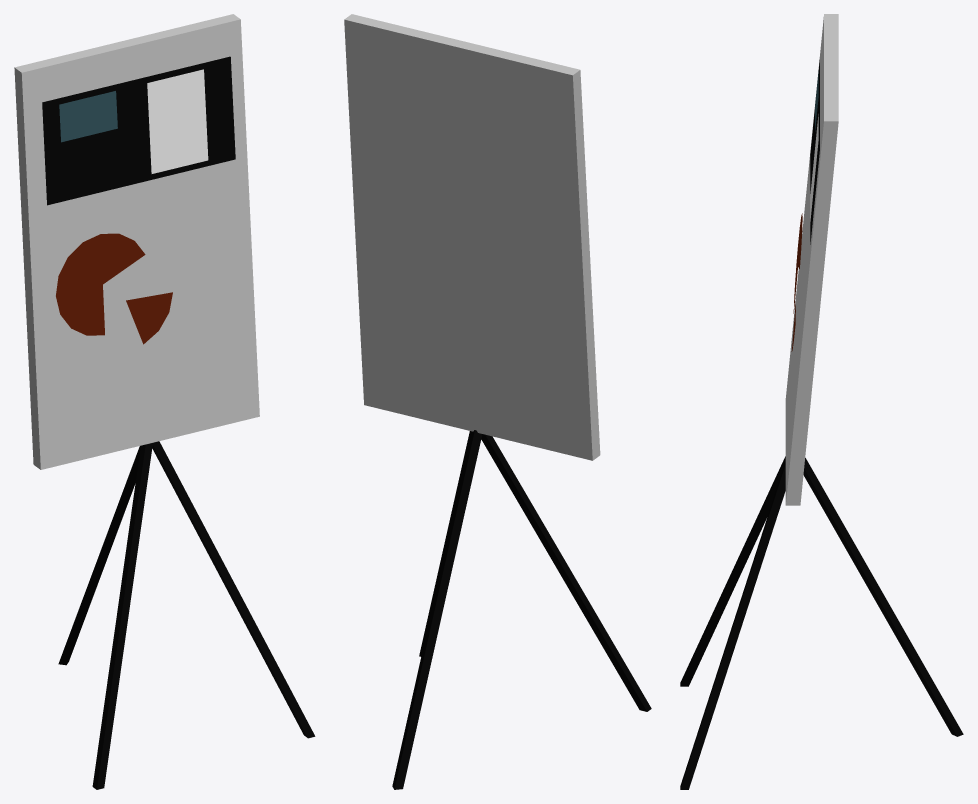
The model's file is Tabela.fbx.
The picture shows the model from 3 angles, left to right: view 1: azimuth 30°, elevation 25°; view 2: azimuth 150°, elevation 25°; view 3: azimuth 270°, elevation 25°; orthographic projection. The views are drawn at different scales.
Parts seen in each view (by area): view 1: Tabela; view 2: Tabela; view 3: Tabela.
Part boxes in pixels (x1=…): Tabela: x1=14, y1=14, x2=315, y2=789; Tabela: x1=344, y1=14, x2=651, y2=789; Tabela: x1=680, y1=14, x2=963, y2=789.
Size of the model in its own units: 129 by 369 by 142.
